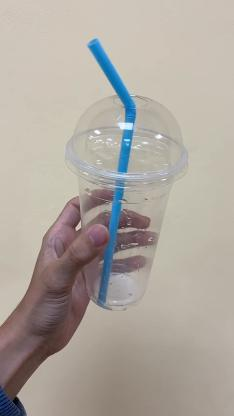Plastic Cup: (61, 98, 191, 312)
